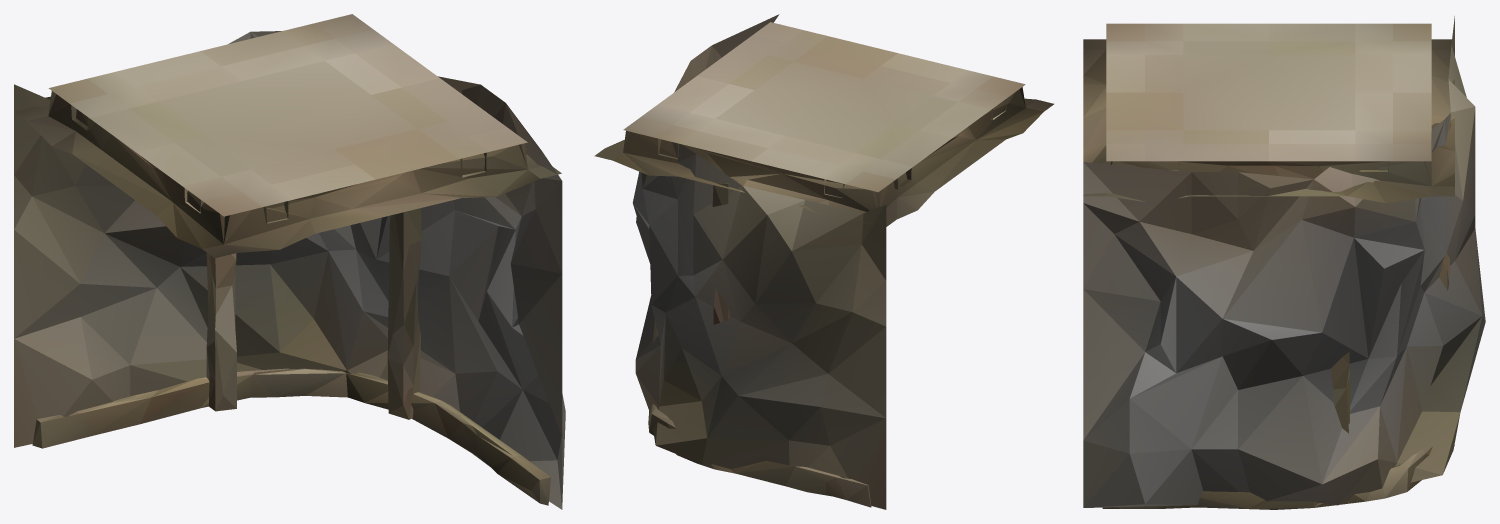
The model's file is Base_UG-TurnRockA.fbx.
The picture shows the model from 3 angles, left to right: view 1: azimuth 30°, elevation 25°; view 2: azimuth 150°, elevation 25°; view 3: azimuth 270°, elevation 25°; orthographic projection. The views are drawn at different scales.
Parts seen in each view (by area): view 1: Base_UG-TurnRockA; view 2: Base_UG-TurnRockA; view 3: Base_UG-TurnRockA.
Boxes of the visible parts, bbox=[...] form: Base_UG-TurnRockA: bbox=[14, 14, 565, 509]; Base_UG-TurnRockA: bbox=[594, 14, 1053, 509]; Base_UG-TurnRockA: bbox=[1083, 16, 1485, 509].
Bounding box in the file's own units: 444 × 404 × 433.
